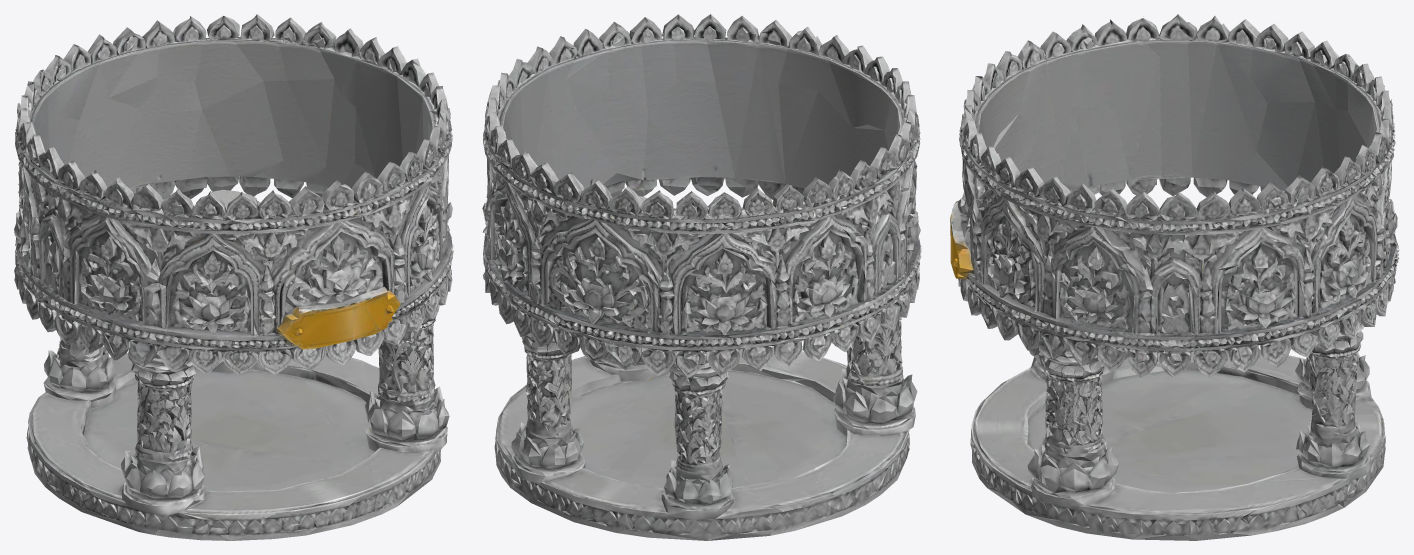
Rendered from table.glb.
3 views of the same model, side by side, from view 1: azimuth 30°, elevation 25°; view 2: azimuth 150°, elevation 25°; view 3: azimuth 270°, elevation 25° (orthographic).
Visible parts, largest first — view 1: Mesh_0; view 2: Mesh_0; view 3: Mesh_0.
Boxes of the visible parts, x1=… form: Mesh_0: x1=14, y1=14, x2=453, y2=540; Mesh_0: x1=482, y1=14, x2=921, y2=540; Mesh_0: x1=950, y1=14, x2=1399, y2=540.
Bounding box in the file's own units: 1.87 × 1.64 × 1.9.
1 material, 1 textured.
